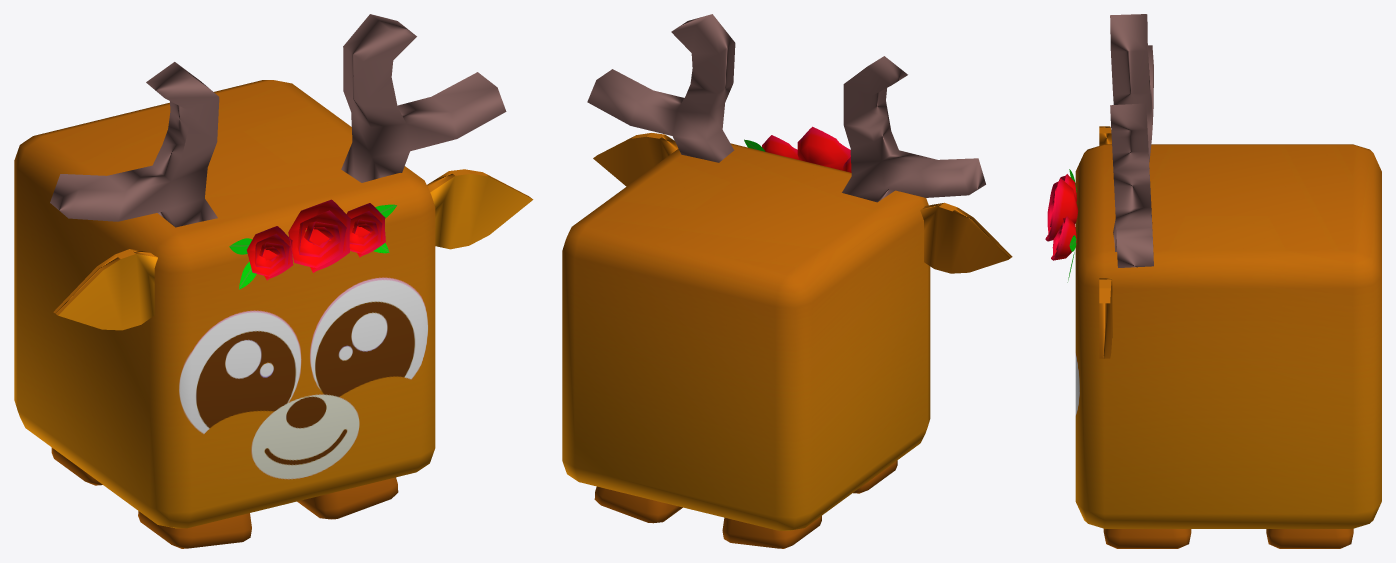
The model's file is Deer.fbx.
The picture shows the model from 3 angles, left to right: view 1: azimuth 30°, elevation 25°; view 2: azimuth 150°, elevation 25°; view 3: azimuth 270°, elevation 25°; orthographic projection. The views are drawn at different scales.
Visible parts, largest first — view 1: Plane.014_Deer_0; view 2: Plane.014_Deer_0; view 3: Plane.014_Deer_0.
Boxes of the visible parts, bbox=[...] form: Plane.014_Deer_0: bbox=[14, 14, 533, 548]; Plane.014_Deer_0: bbox=[562, 14, 1012, 548]; Plane.014_Deer_0: bbox=[1045, 14, 1381, 548].
Bounding box in the file's own units: 0.7191 × 0.695 × 0.4754.
